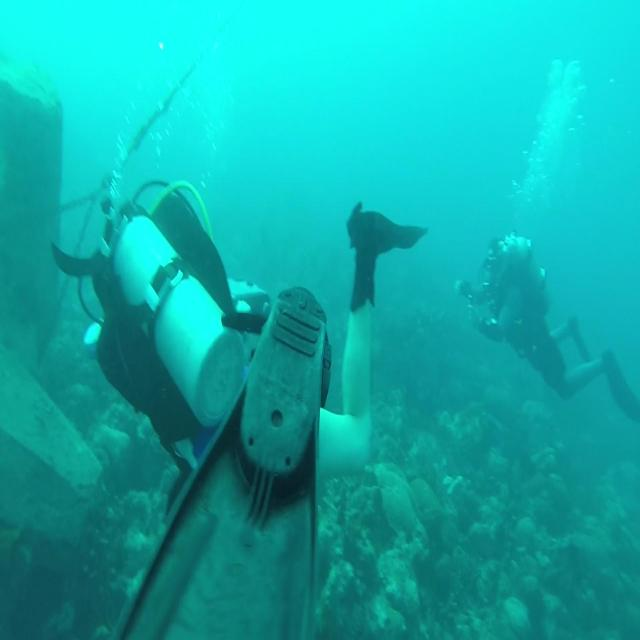human: (50, 178, 428, 637), (454, 230, 638, 424)
